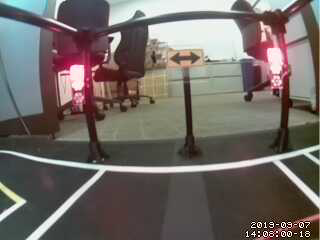Left_Right_sign: (264, 48, 285, 89), (70, 65, 83, 110)
